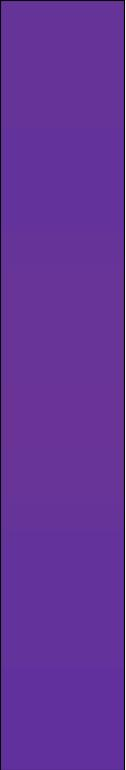safe: (9, 5, 120, 760)
